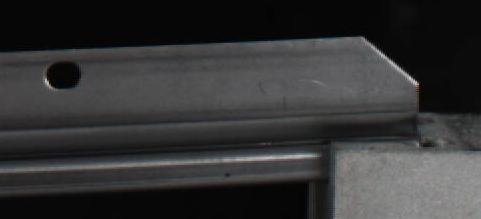cut: (273, 35, 425, 180)
holes: (42, 59, 83, 90)
